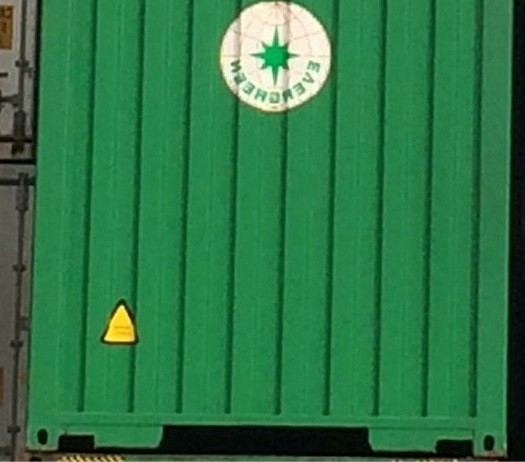container_no_door: (29, 3, 514, 448)
